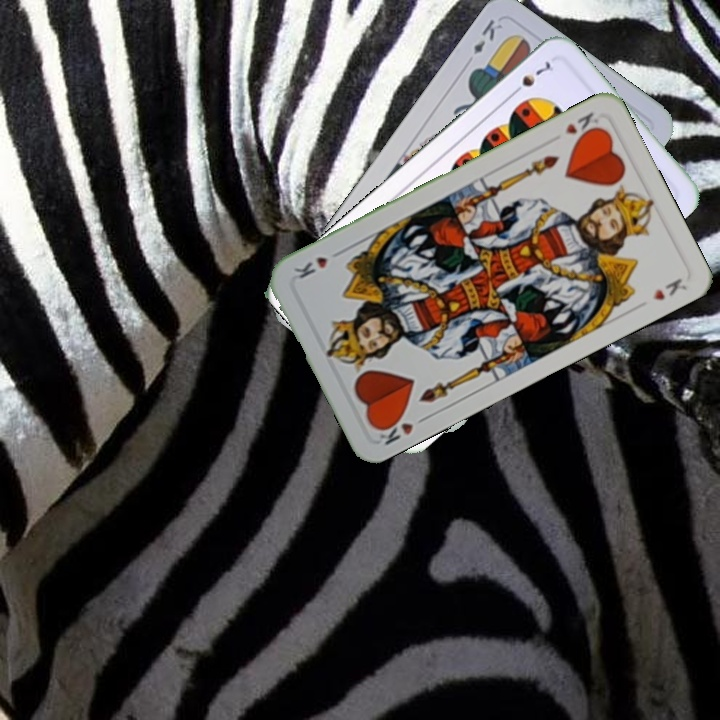EK: (469, 15, 505, 57)
HK: (373, 411, 431, 448), (561, 108, 603, 143)
S7: (507, 57, 557, 99)
